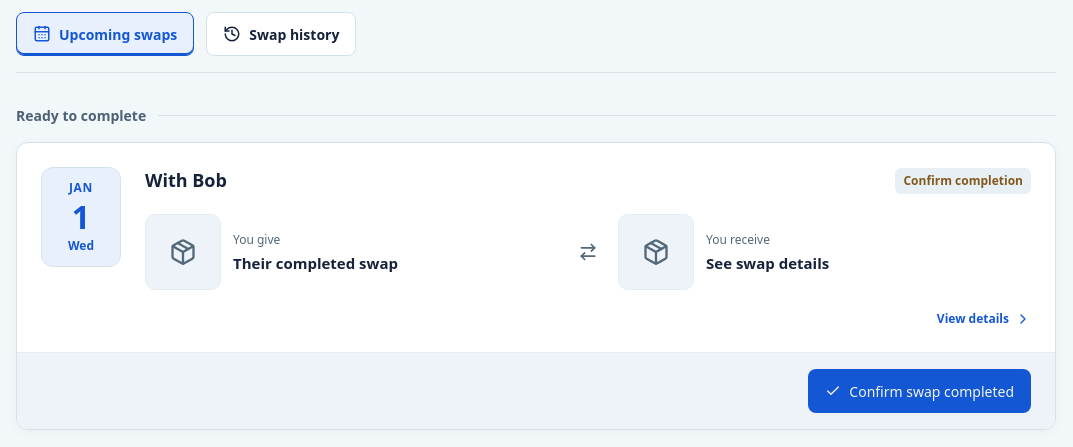
Test: personal history remains independent when switching tabs
Expected: the text "My completed swap" is not shown
Expected: the text "Their completed swap" is shown, [233, 252, 398, 274]
Click the tab "Swap history" at [281, 34], box [206, 12, 356, 56]
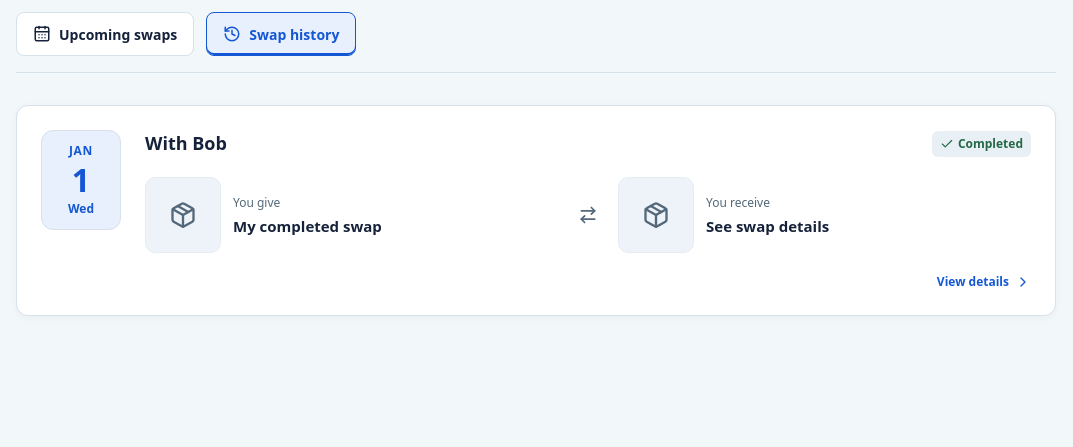
Expected: the text "My completed swap" is shown, [233, 216, 382, 236]
Expected: the link "Their completed swap" is gone
Expected: the button "Confirm swap completed" is gone
